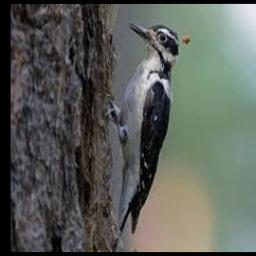Woodpecker: (106, 22, 190, 244)
